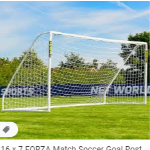goals: (2, 30, 147, 113)
